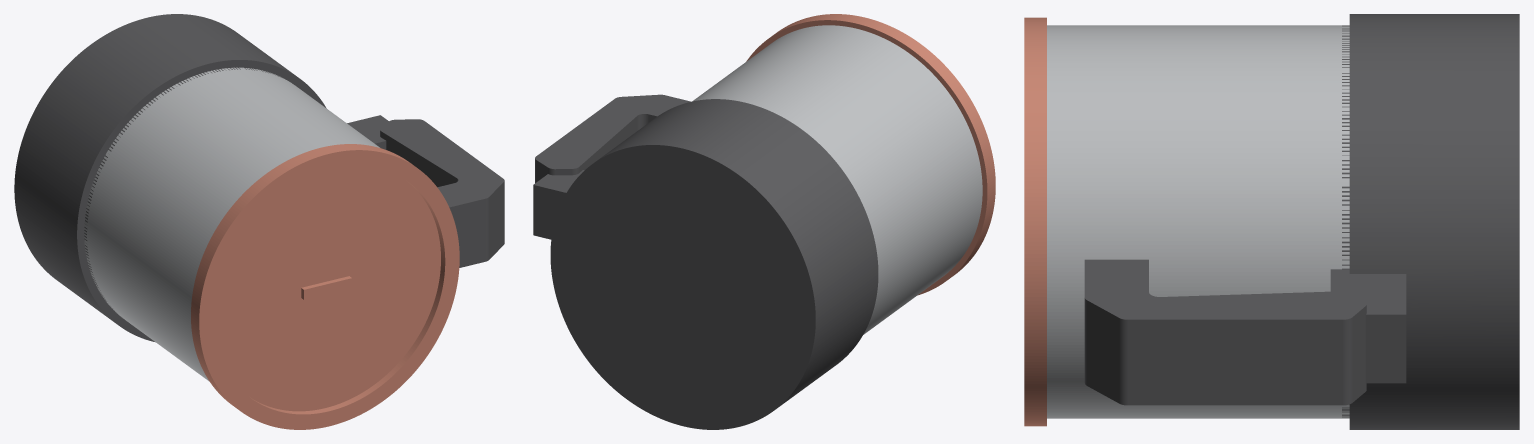
Rendered from cad_milk_frother.glb.
3 views of the same model, side by side, from view 1: azimuth 30°, elevation 25°; view 2: azimuth 150°, elevation 25°; view 3: azimuth 270°, elevation 25° (orthographic). The views are drawn at different scales.
Visible parts, largest first — view 1: v2, v1, v0; view 2: v0, v1, v2; view 3: v0, v1, v2.
Boxes of the visible parts, x1,y1,x2,y2 form: v2: [191, 144, 459, 429]; v1: [84, 67, 379, 381]; v0: [14, 14, 504, 342]; v0: [533, 94, 878, 429]; v1: [692, 25, 982, 334]; v2: [746, 14, 995, 295]; v0: [1084, 14, 1519, 429]; v1: [1047, 25, 1349, 418]; v2: [1024, 17, 1046, 426].
Bounding box in the file's own units: 0.143 × 0.11 × 0.131.
